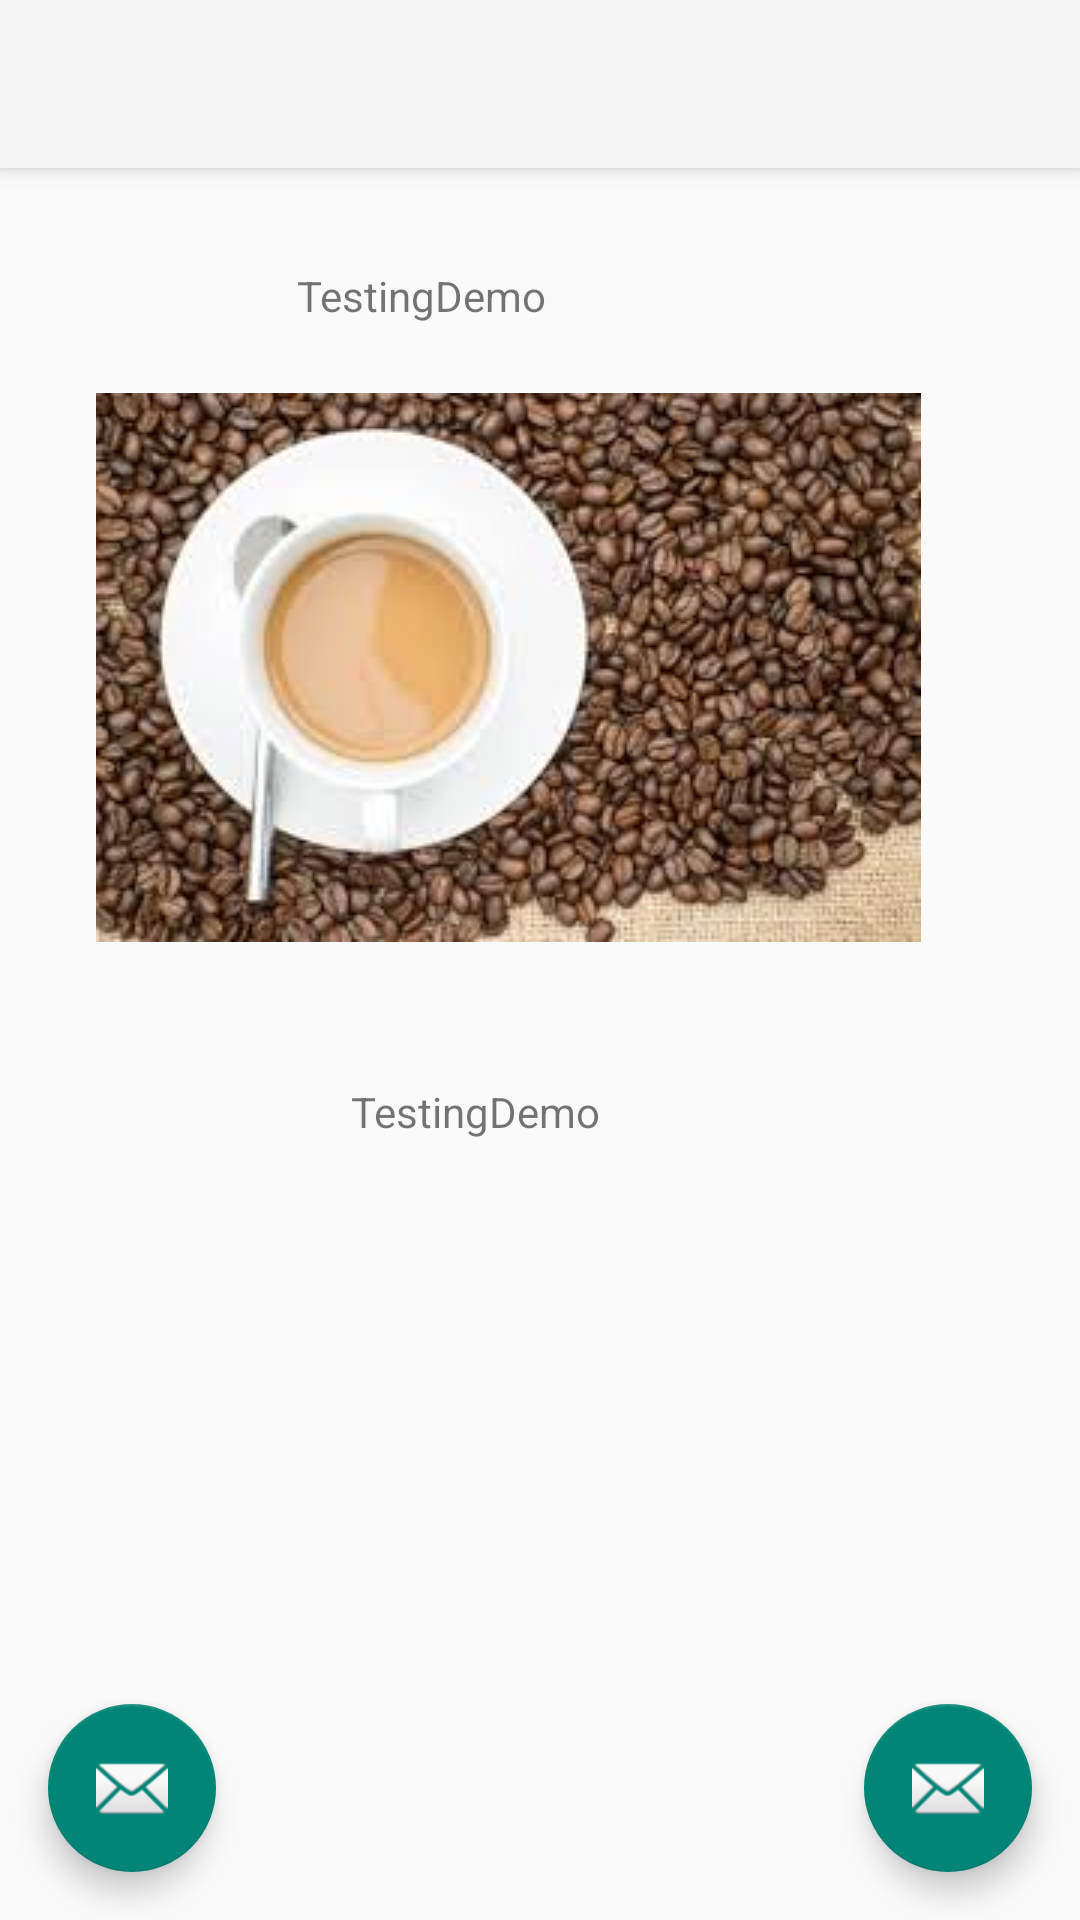

Screen size 1080*1920. Icon name, then its center in pixels as point (x, y):
email: point (132, 1788), point (948, 1788)
